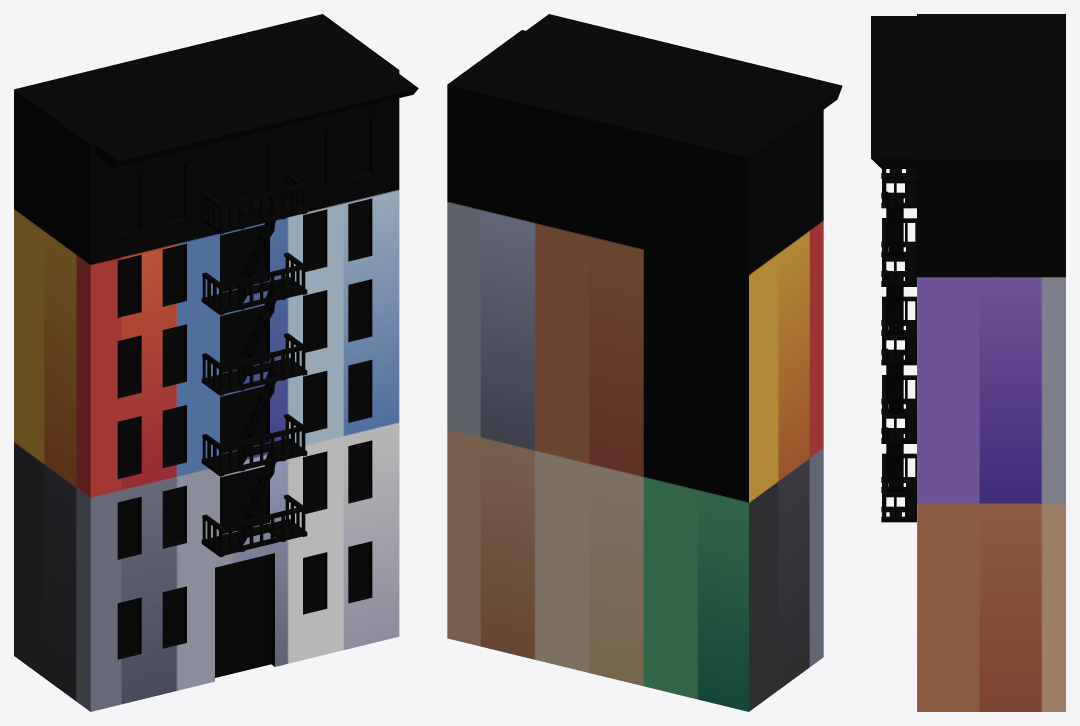
The model's file is apartment_building.glb.
The picture shows the model from 3 angles, left to right: view 1: azimuth 30°, elevation 25°; view 2: azimuth 150°, elevation 25°; view 3: azimuth 270°, elevation 25°; orthographic projection. The views are drawn at different scales.
Parts seen in each view (by area): view 1: Apartment_mesh; view 2: Apartment_mesh; view 3: Apartment_mesh.
Boxes of the visible parts, left/top/right/bottom form: Apartment_mesh: left=14, top=14, right=418, bottom=711; Apartment_mesh: left=447, top=14, right=842, bottom=711; Apartment_mesh: left=871, top=14, right=1065, bottom=711.
Bounding box in the file's own units: 10.32 × 18.1 × 5.79.
1 material, 1 textured.
